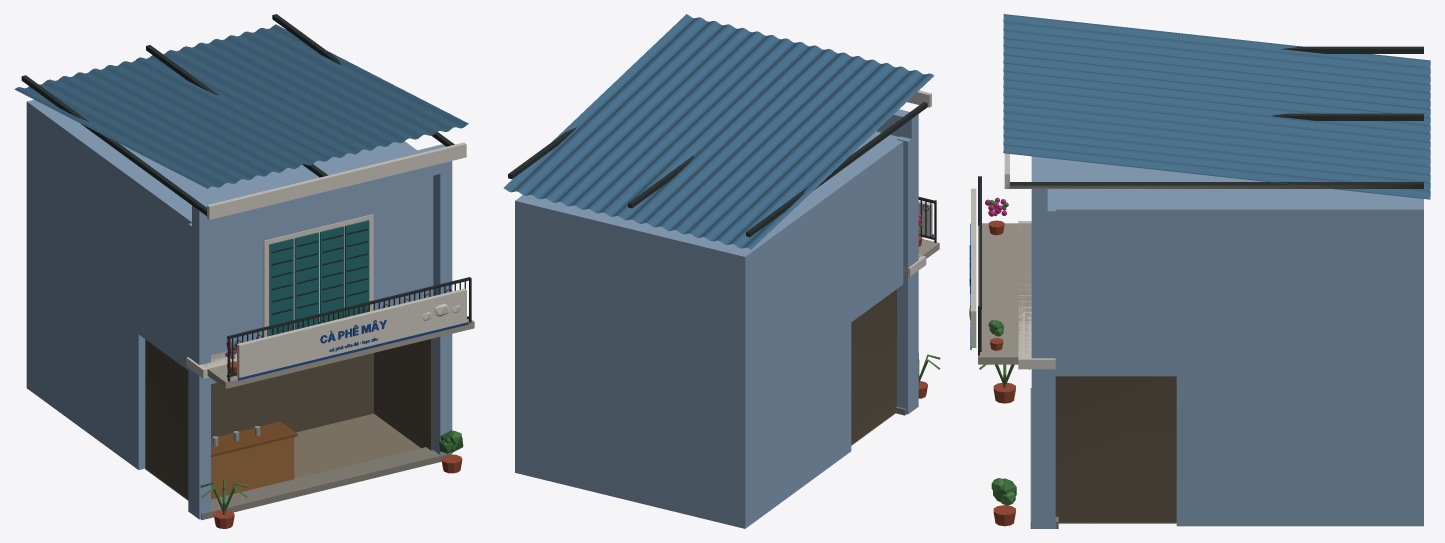
File: cafe_may.glb
The picture shows the model from 3 angles, left to right: view 1: azimuth 30°, elevation 25°; view 2: azimuth 150°, elevation 25°; view 3: azimuth 270°, elevation 25°; orthographic projection. The views are drawn at different scales.
Visible parts, largest first — view 1: cafe_may; view 2: cafe_may; view 3: cafe_may.
Part boxes in pixels (left/top/right/bottom): cafe_may: left=14, top=14, right=474, bottom=528; cafe_may: left=503, top=14, right=940, bottom=528; cafe_may: left=969, top=14, right=1430, bottom=528.
Bounding box in the file's own units: 6.36 × 7.78 × 8.59.
